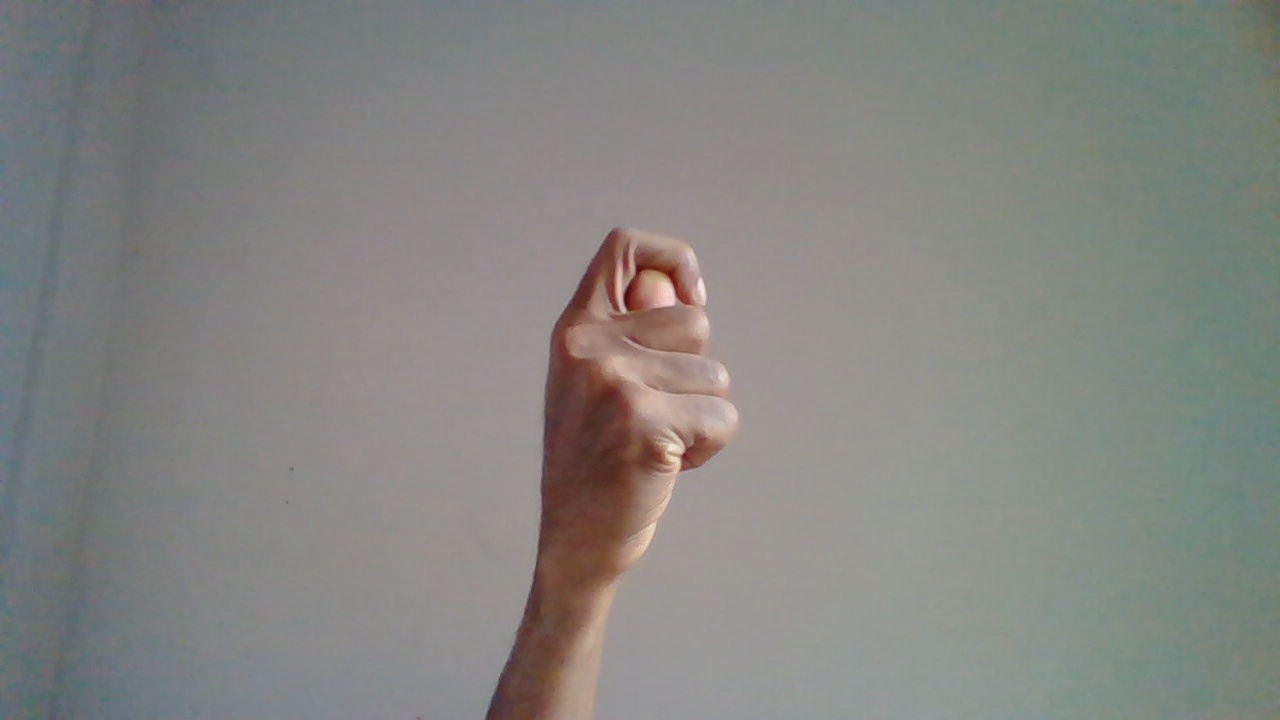che: (531, 225, 741, 690)
